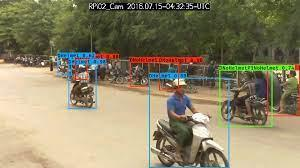motorcycle: (146, 75, 234, 165), (222, 70, 274, 128), (68, 61, 96, 106)
